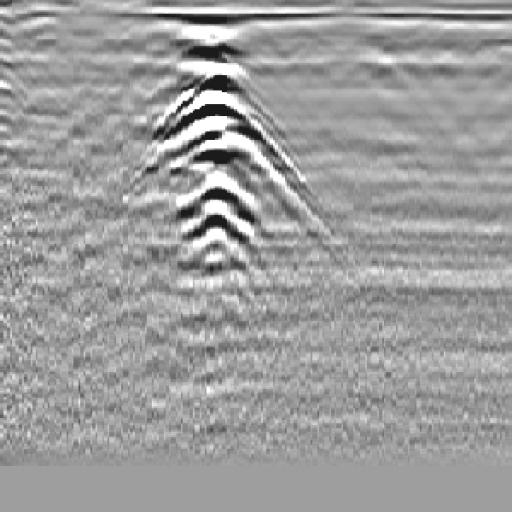metalic: (140, 65, 309, 264)
